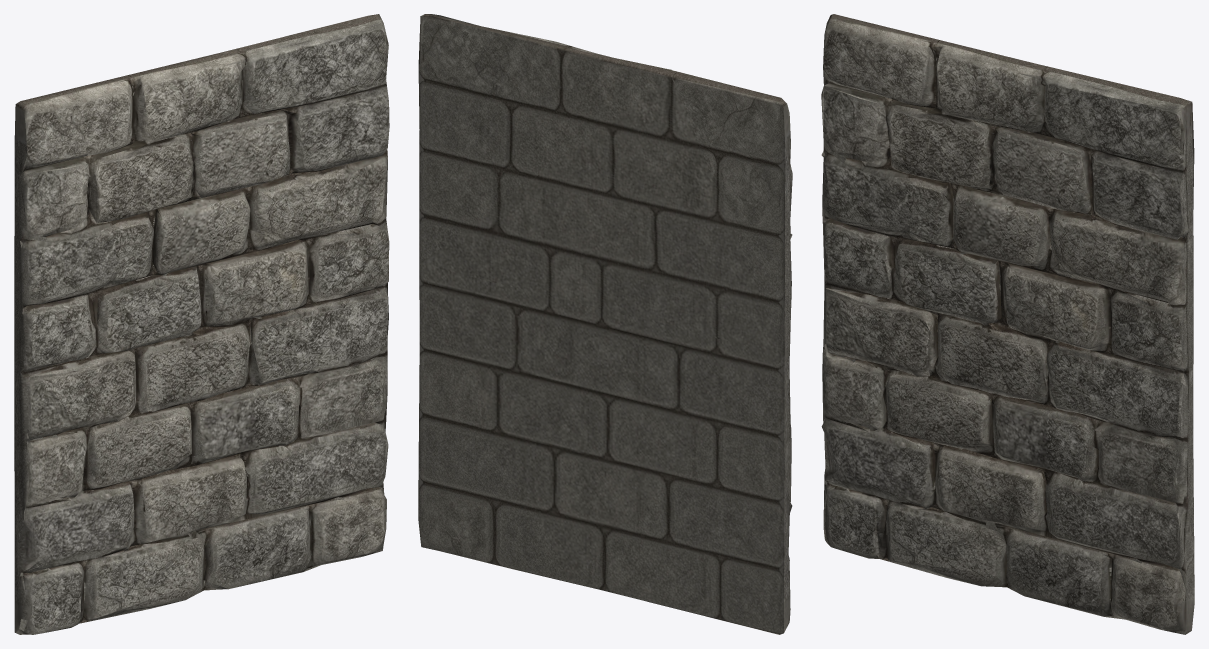
File: blk_fortress_wall.glb
3 views of the same model, side by side, from view 1: azimuth 30°, elevation 25°; view 2: azimuth 150°, elevation 25°; view 3: azimuth 330°, elevation 25° (orthographic).
Visible parts, largest first — view 1: Mesh0; view 2: Mesh0; view 3: Mesh0.
Part boxes in pixels (box(x1,y1,x2,y2)): Mesh0: box(14, 14, 389, 634); Mesh0: box(418, 14, 792, 634); Mesh0: box(821, 14, 1194, 634).
Size of the model in its own units: 1.37 by 1.9 by 0.0796.
1 material, 1 textured.
